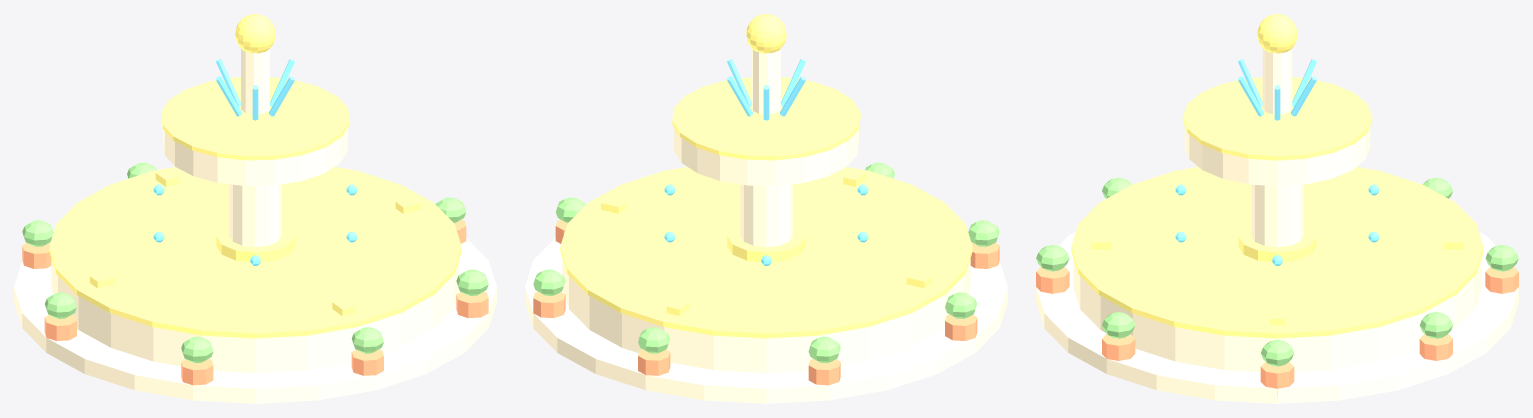
Rendered from Fountain.glb.
3 renders of one model, left to right at view 1: azimuth 30°, elevation 25°; view 2: azimuth 150°, elevation 25°; view 3: azimuth 270°, elevation 25°, orthographic.
Visible parts, largest first — view 1: BasinRim, OuterStep, BasinOuter, UpperRim, UpperBasin, Column, UpperColumn, ColumnBase, SpoutTop, Pot_6, Pot_5, Pot_4 (+8 smaller); view 2: BasinRim, OuterStep, BasinOuter, UpperRim, UpperBasin, Column, UpperColumn, ColumnBase, SpoutTop, Pot_2, Pot_3, Pot_1 (+8 smaller); view 3: BasinRim, OuterStep, BasinOuter, UpperRim, UpperBasin, Column, UpperColumn, ColumnBase, SpoutTop, Pot_0, Pot_2, Pot_6 (+7 smaller).
Boxes of the visible parts, x1=… form: BasinRim: x1=49, y1=167, x2=461, y2=338; OuterStep: x1=14, y1=238, x2=496, y2=403; BasinOuter: x1=51, y1=258, x2=459, y2=372; UpperRim: x1=161, y1=77, x2=349, y2=160; UpperBasin: x1=163, y1=128, x2=347, y2=185; Column: x1=229, y1=184, x2=281, y2=247; UpperColumn: x1=241, y1=48, x2=269, y2=114; ColumnBase: x1=216, y1=225, x2=294, y2=262; SpoutTop: x1=235, y1=14, x2=275, y2=53; Pot_6: x1=351, y1=349, x2=383, y2=375; Pot_5: x1=181, y1=359, x2=213, y2=385; Pot_4: x1=44, y1=314, x2=76, y2=340; BasinRim: x1=560, y1=167, x2=972, y2=338; OuterStep: x1=525, y1=238, x2=1007, y2=403; BasinOuter: x1=562, y1=258, x2=970, y2=372; UpperRim: x1=672, y1=77, x2=860, y2=160; UpperBasin: x1=674, y1=128, x2=858, y2=185; Column: x1=740, y1=184, x2=792, y2=247; UpperColumn: x1=752, y1=48, x2=780, y2=114; ColumnBase: x1=727, y1=225, x2=805, y2=262; SpoutTop: x1=746, y1=14, x2=786, y2=53; Pot_2: x1=638, y1=349, x2=670, y2=375; Pot_3: x1=808, y1=359, x2=840, y2=385; Pot_1: x1=533, y1=292, x2=565, y2=318; BasinRim: x1=1071, y1=167, x2=1483, y2=338; OuterStep: x1=1036, y1=232, x2=1518, y2=403; BasinOuter: x1=1073, y1=258, x2=1481, y2=372; UpperRim: x1=1182, y1=77, x2=1372, y2=160; UpperBasin: x1=1184, y1=126, x2=1370, y2=186; Column: x1=1251, y1=184, x2=1303, y2=247; UpperColumn: x1=1262, y1=48, x2=1292, y2=114; ColumnBase: x1=1238, y1=225, x2=1316, y2=262; SpoutTop: x1=1257, y1=14, x2=1297, y2=53; Pot_0: x1=1260, y1=361, x2=1294, y2=396; Pot_2: x1=1485, y1=267, x2=1518, y2=293; Pot_6: x1=1036, y1=267, x2=1069, y2=293.
Size of the model in its own units: 5.2 by 3.4 by 5.2.
